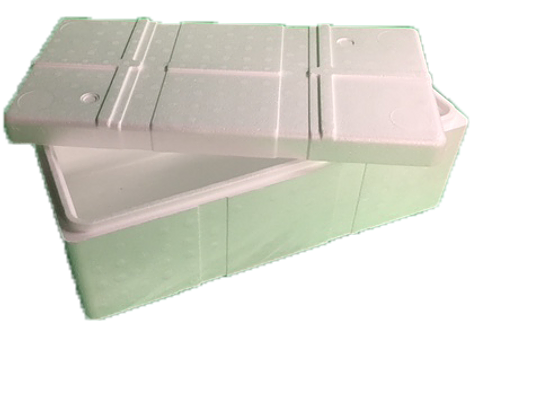Foam Box: (1, 11, 475, 323)
